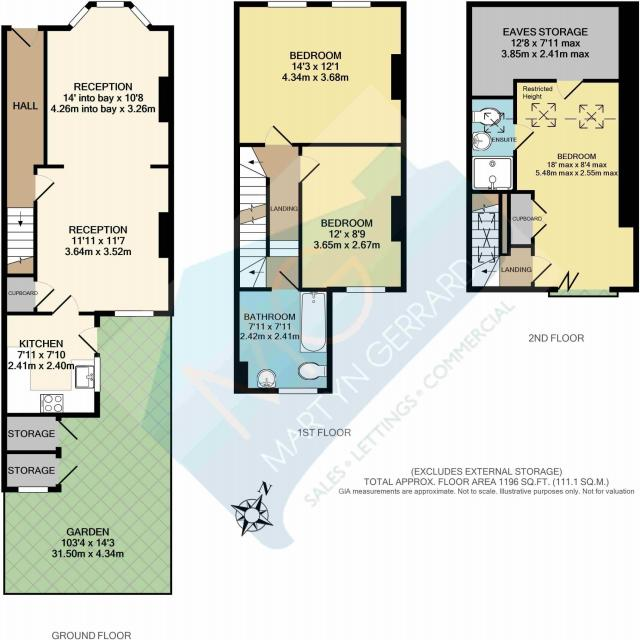DOOR: (297, 154, 322, 184), (263, 124, 294, 148), (555, 77, 584, 102), (10, 25, 40, 49), (269, 268, 299, 292), (55, 420, 80, 448), (32, 280, 56, 309), (77, 326, 101, 354), (55, 457, 79, 485), (512, 123, 536, 151), (530, 255, 554, 283), (51, 293, 80, 316), (33, 174, 56, 202)
ROOM: (33, 1, 175, 317), (498, 79, 639, 297), (233, 1, 407, 147), (298, 142, 408, 293), (1, 293, 101, 418)
WINDOW: (68, 5, 90, 29), (129, 5, 151, 28), (267, 0, 307, 9), (345, 286, 386, 294), (278, 387, 319, 395), (331, 0, 371, 8), (93, 356, 101, 393), (114, 310, 154, 317), (18, 486, 49, 493), (96, 1, 125, 8)
